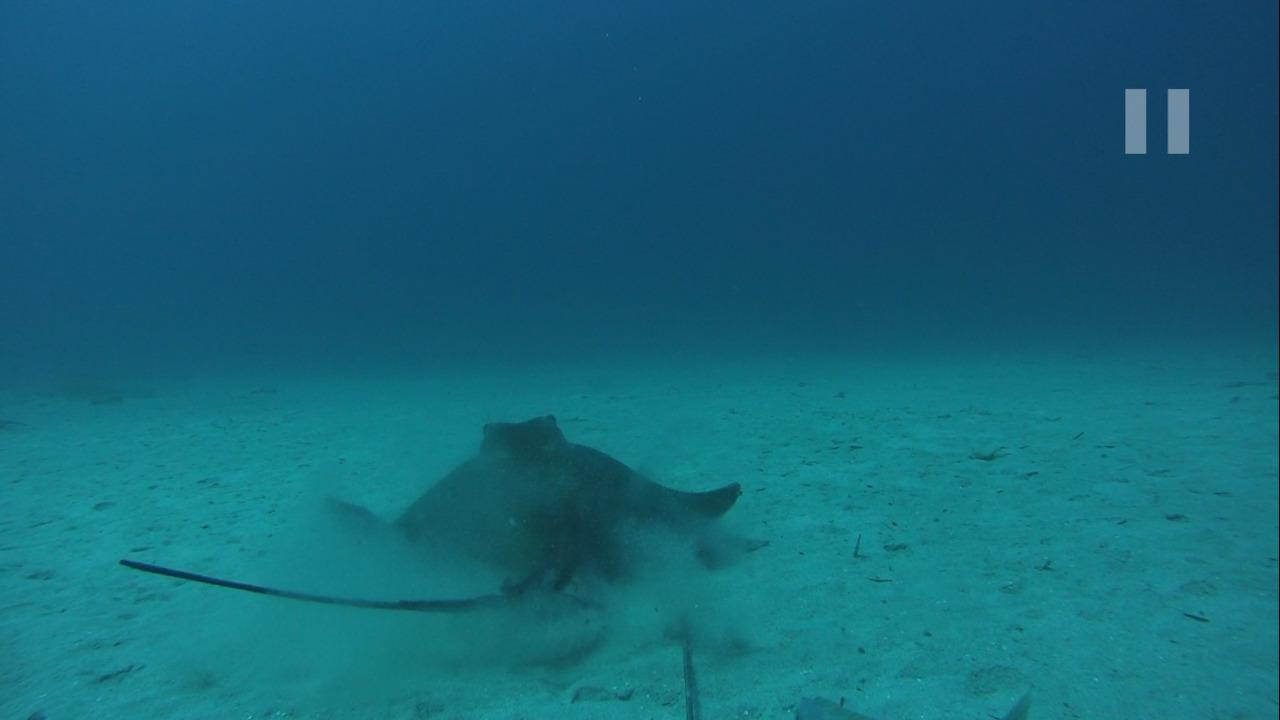myliobatis: (104, 407, 767, 617)
raor: (781, 692, 866, 719)
